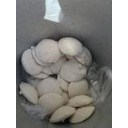idly: (22, 50, 44, 74), (60, 62, 85, 83), (38, 76, 63, 96), (37, 39, 59, 61), (58, 36, 83, 55), (19, 82, 38, 105), (39, 95, 64, 111), (49, 108, 74, 123), (73, 106, 94, 123), (69, 95, 94, 108), (69, 81, 90, 96)
